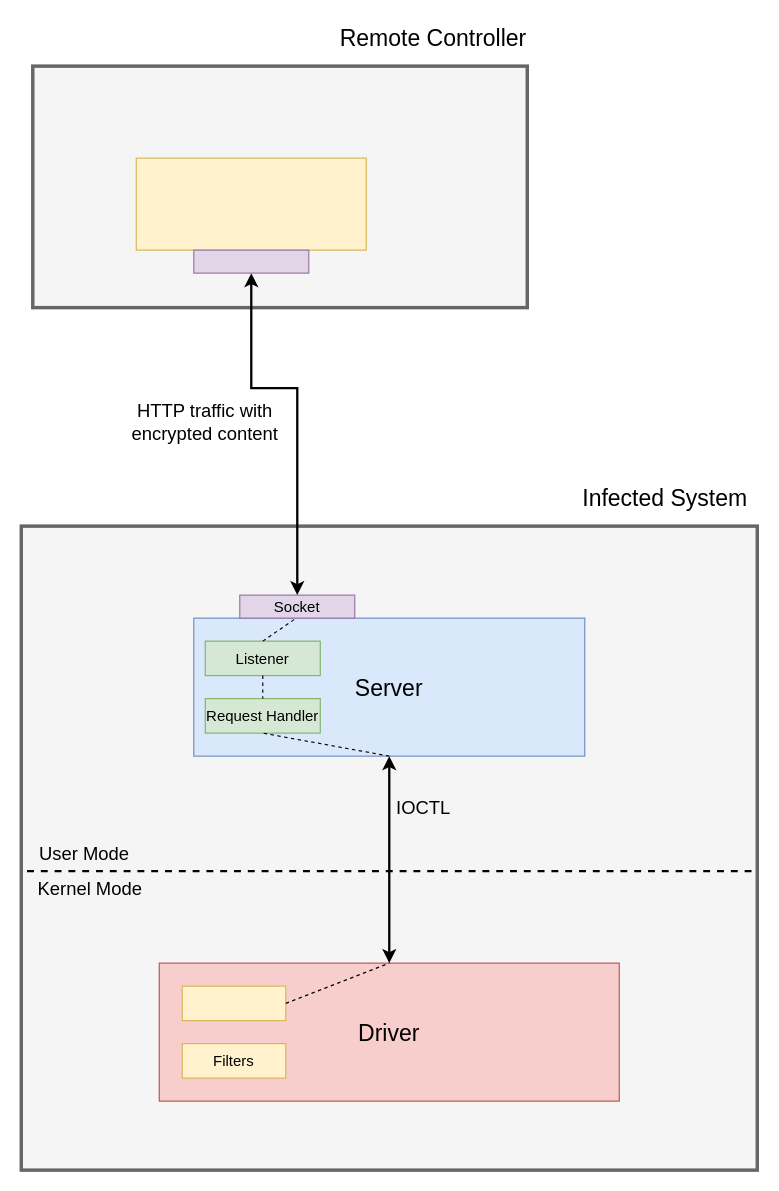
Image size: 779x1191. Some labels were removed from this diagram. The shapes that lost their labels are listed below. From the top down, each one's centre as x and y in pixels, then its label:
At [250,203]: "Panel".
At [251,261]: "JS Fetch()".
At [233,1003]: "IOCTL Handler".
